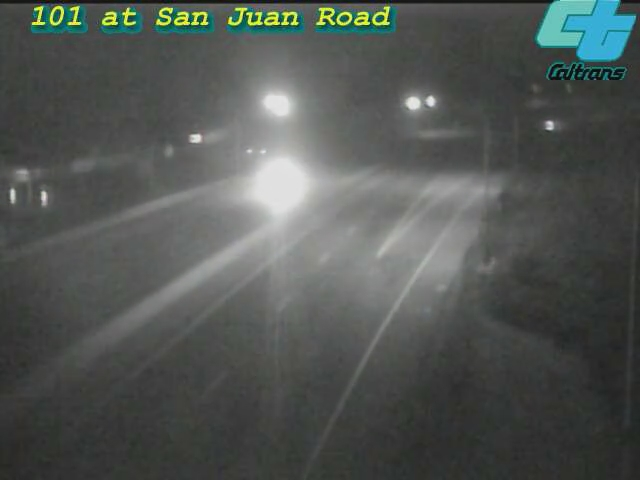vehicle: (231, 146, 311, 226)
